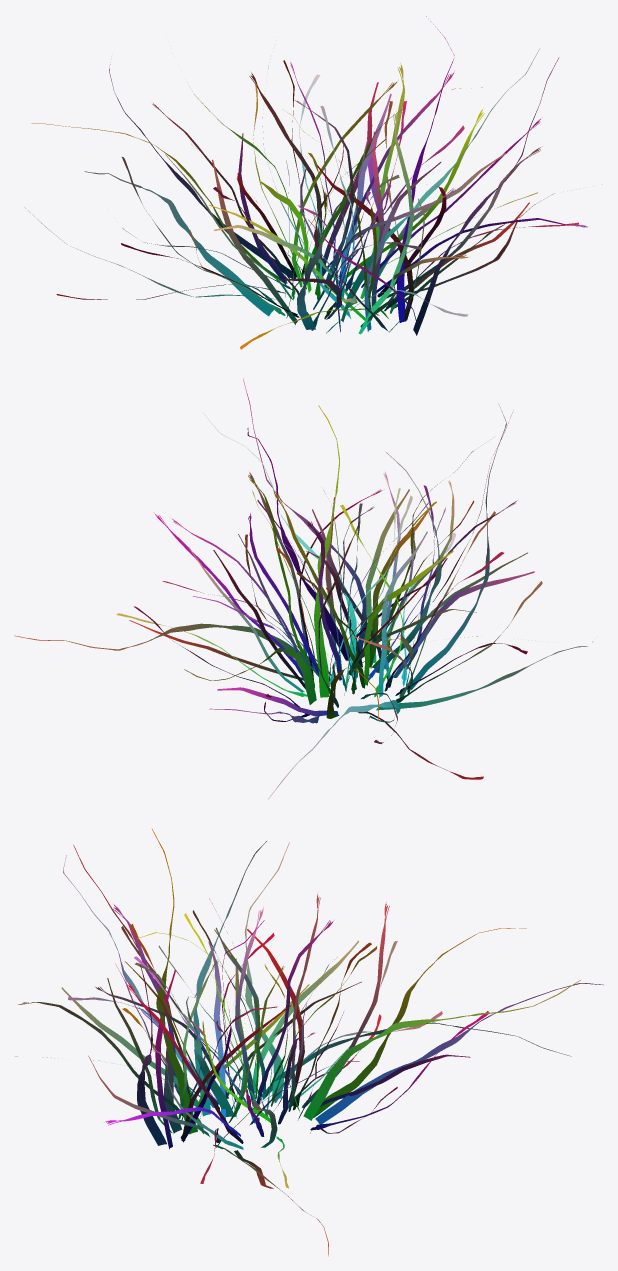
The model's file is Wild_Grass_vlkhcbxia_Raw_vlkhcbxia_VarE_LOD0.fbx.
3 views of the same model, one above another, from view 1: azimuth 30°, elevation 25°; view 2: azimuth 150°, elevation 25°; view 3: azimuth 270°, elevation 25° (orthographic). The views are drawn at different scales.
Parts seen in each view (by area): view 1: _ihh8_VarE_High; view 2: _ihh8_VarE_High; view 3: _ihh8_VarE_High.
Boxes of the visible parts, x1,y1,x2,y2 form: _ihh8_VarE_High: [24, 16, 587, 349]; _ihh8_VarE_High: [14, 378, 592, 799]; _ihh8_VarE_High: [15, 828, 603, 1256].
Bounding box in the file's own units: 40.5 × 17.95 × 35.89.
